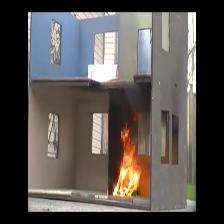fire: (118, 129, 138, 196)
smoke: (113, 88, 142, 115)
